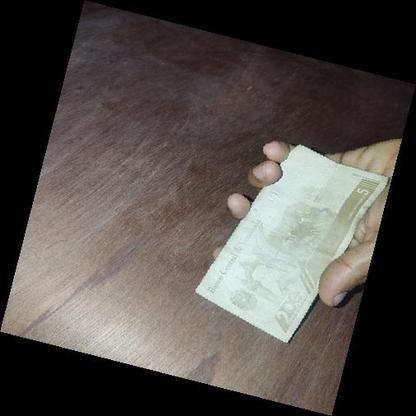five-back-vef: (194, 144, 388, 343)
